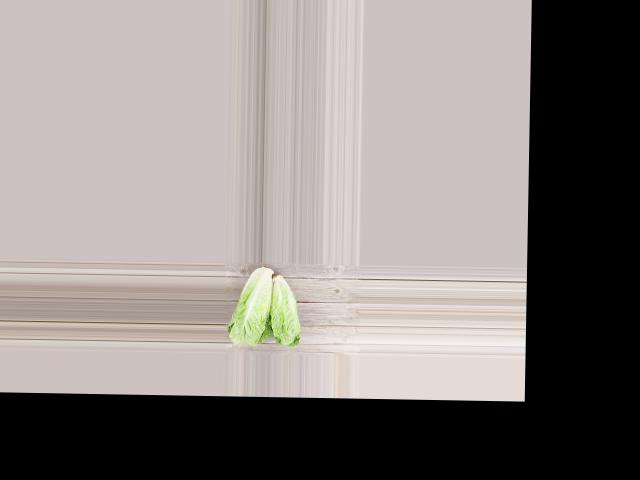lettuce: (226, 262, 274, 348)
